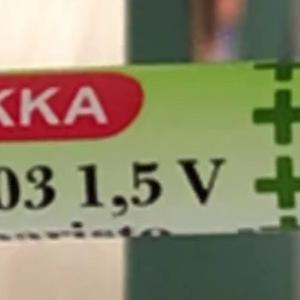keyword: (37, 148, 234, 249)
